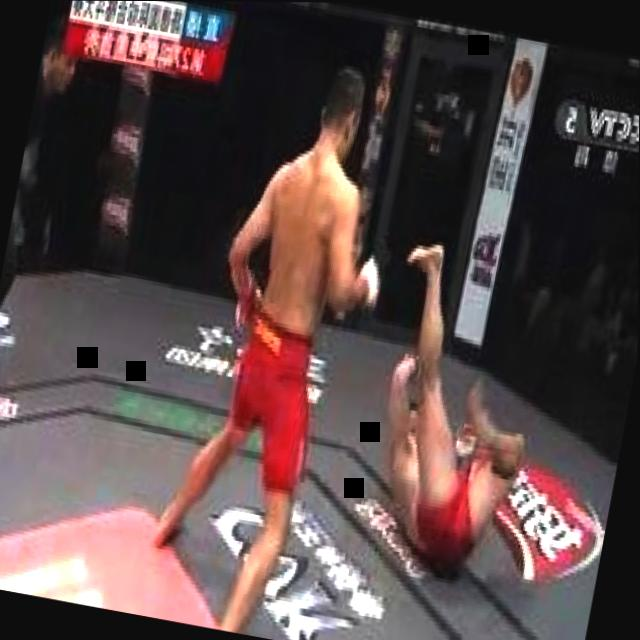Fall-Detected: (344, 219, 608, 579)
